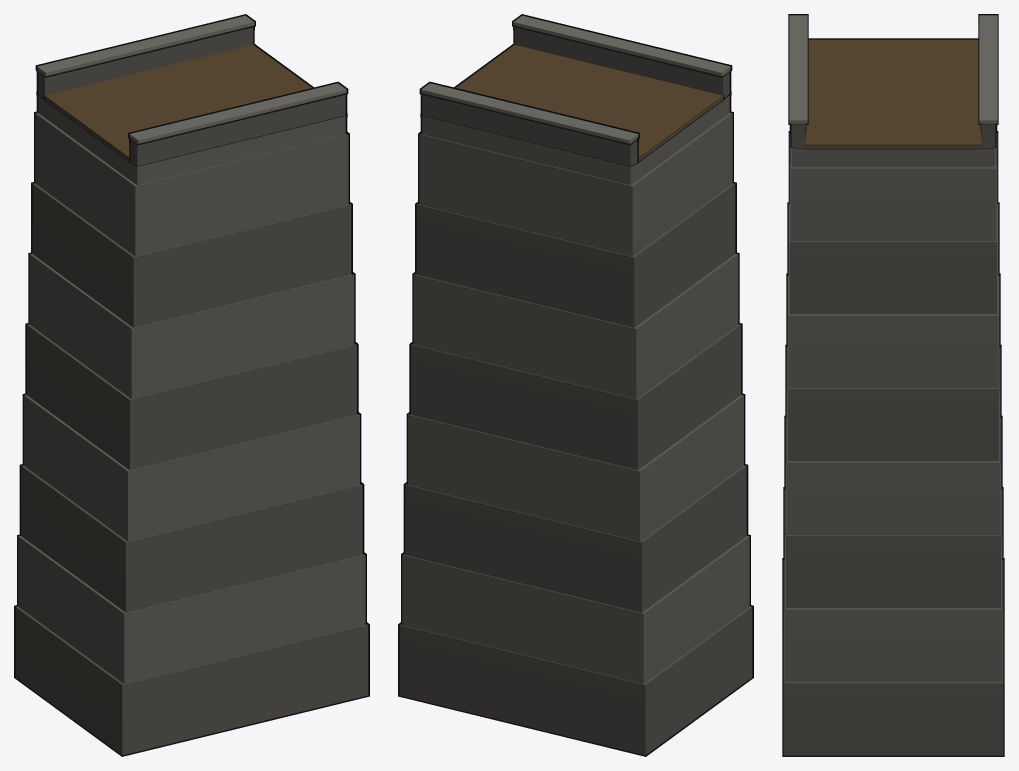
Rendered from bridge_end.glb.
The picture shows the model from 3 angles, left to right: view 1: azimuth 30°, elevation 25°; view 2: azimuth 150°, elevation 25°; view 3: azimuth 270°, elevation 25°; orthographic projection. The views are drawn at different scales.
Parts seen in each view (by area): view 1: prop; view 2: prop; view 3: prop.
Boxes of the visible parts, x1,y1,x2,y2 form: prop: [14, 14, 369, 756]; prop: [398, 14, 753, 756]; prop: [782, 14, 1004, 756].
Size of the model in its own units: 10.7 by 25.17 by 8.07.
